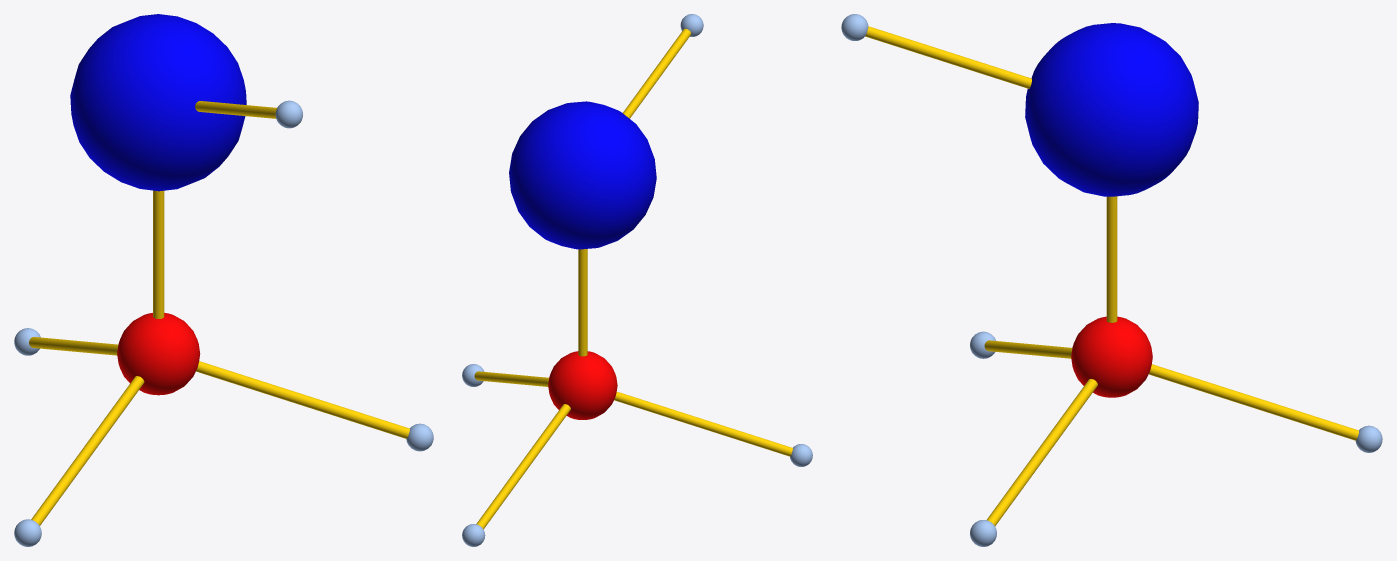
The model's file is methanol.gltf.
3 renders of one model, left to right at view 1: azimuth 30°, elevation 25°; view 2: azimuth 150°, elevation 25°; view 3: azimuth 270°, elevation 25°, orthographic. The views are drawn at different scales.
Parts seen in each view (by area): view 1: 3DGeom-3, 3DGeom-1, 3DGeom-6, 3DGeom-2, 3DGeom-4, 3DGeom-5, 3DGeom-7, 3DGeom-8; view 2: 3DGeom-3, 3DGeom-1, 3DGeom-4, 3DGeom-2, 3DGeom-7, 3DGeom-5, 3DGeom-8, 3DGeom-6; view 3: 3DGeom-3, 3DGeom-1, 3DGeom-7, 3DGeom-2, 3DGeom-6, 3DGeom-8, 3DGeom-5, 3DGeom-4.
Boxes of the visible parts, box(x1,y1,x2,y2) form: 3DGeom-3: box(70, 14, 246, 191); 3DGeom-1: box(117, 313, 200, 395); 3DGeom-6: box(196, 361, 409, 438); 3DGeom-2: box(14, 100, 433, 546); 3DGeom-4: box(31, 376, 144, 525); 3DGeom-5: box(153, 190, 164, 318); 3DGeom-7: box(29, 337, 118, 355); 3DGeom-8: box(195, 101, 276, 118); 3DGeom-3: box(509, 101, 656, 249); 3DGeom-1: box(548, 351, 617, 419); 3DGeom-4: box(614, 391, 792, 456); 3DGeom-2: box(462, 14, 812, 546); 3DGeom-7: box(476, 404, 570, 529); 3DGeom-5: box(578, 249, 587, 356); 3DGeom-8: box(623, 28, 691, 118); 3DGeom-6: box(474, 371, 548, 386); 3DGeom-3: box(1025, 23, 1198, 196); 3DGeom-1: box(1071, 316, 1152, 397); 3DGeom-7: box(1149, 364, 1358, 440); 3DGeom-2: box(841, 14, 1382, 546); 3DGeom-6: box(987, 379, 1097, 526); 3DGeom-8: box(865, 26, 1031, 88); 3DGeom-5: box(1106, 196, 1117, 322); 3DGeom-4: box(984, 340, 1072, 358).
Bounding box in the file's own units: 1.73 × 1.77 × 1.99.
